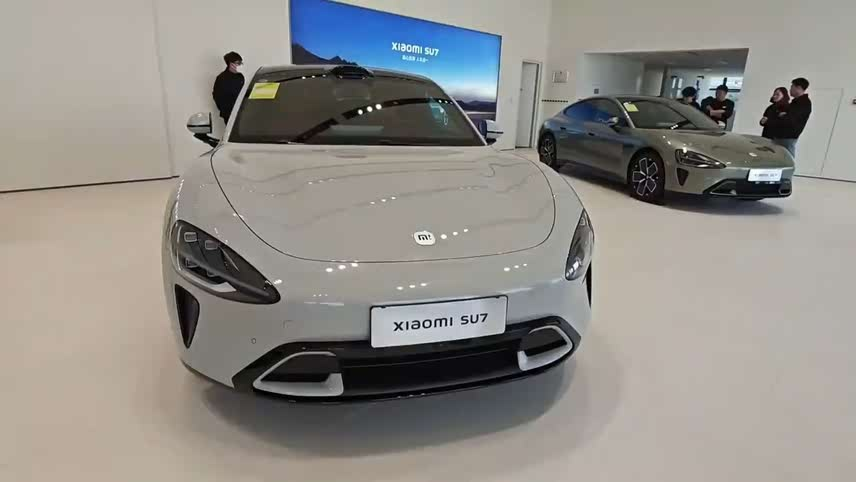su7: (160, 55, 598, 400), (535, 90, 793, 210)
